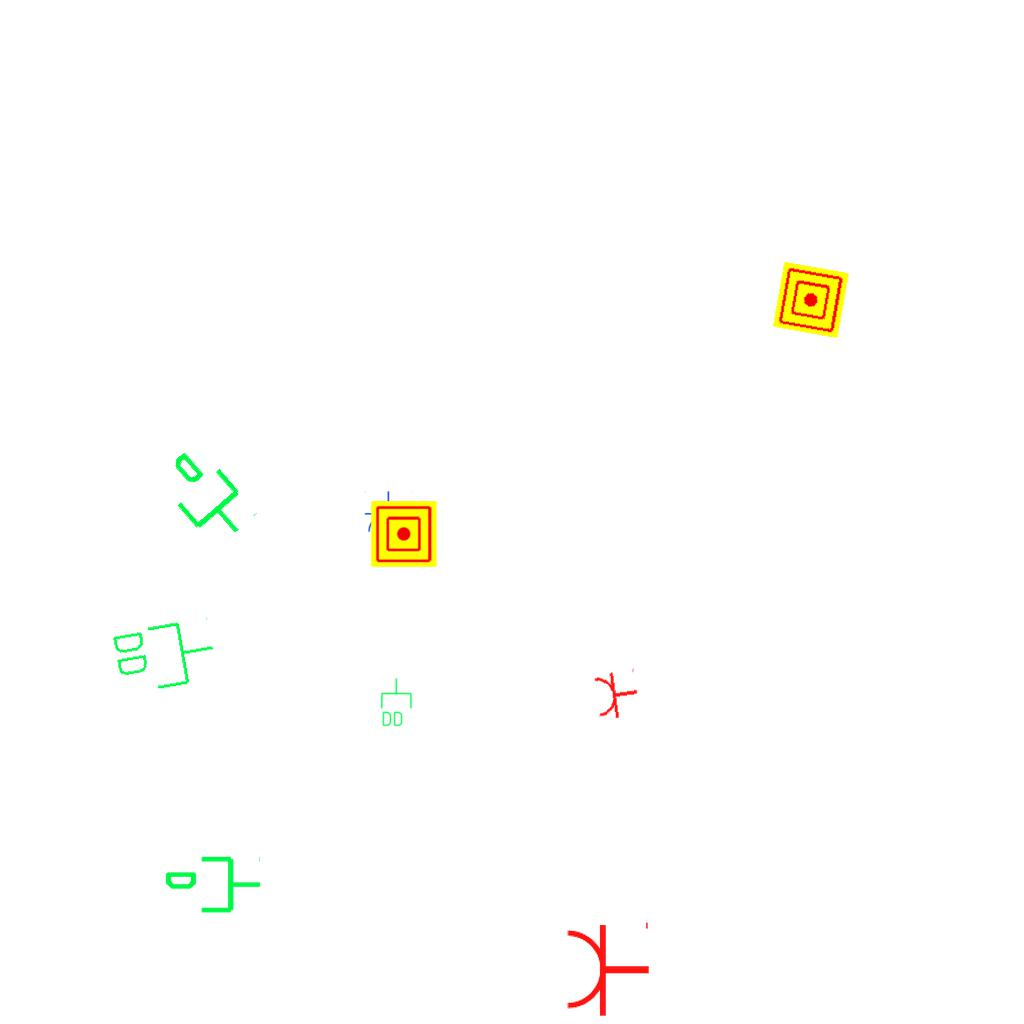Datenanschluss_einfach: (145, 436, 264, 558), (163, 852, 263, 921)
Datenanschluss_zweifach: (107, 612, 222, 699), (379, 677, 413, 728)
NAM-Nichtautomatischer_Melder: (772, 261, 850, 339), (371, 501, 437, 567)
Schukosteckdose_einfach: (564, 918, 651, 1018), (591, 666, 642, 722), (363, 491, 413, 534)
